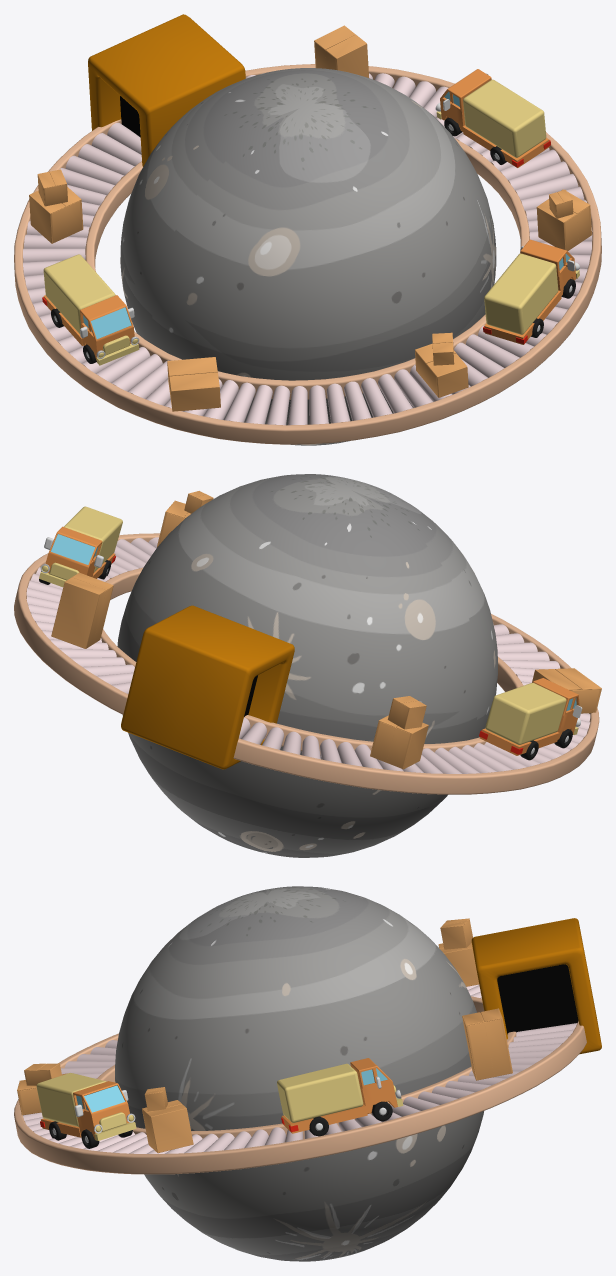
3 renders of one model, top to bottom at view 1: azimuth 30°, elevation 25°; view 2: azimuth 150°, elevation 25°; view 3: azimuth 270°, elevation 25°, orthographic. The views are drawn at different scales.
Visible parts, largest first — view 1: Sphere, Cylinder.001, Cylinder, Cube, Cube.003, Cube.006, Cube.002, Cube.004, Cube.005, Cube.009, Cube.001, Cube.007 (+3 smaller); view 2: Sphere, Cube, Cylinder, Cylinder.001, Cube.006, Cube.003, Cube.005, Cube.001, Cube.004, Cube.014, Cube.009; view 3: Sphere, Cylinder, Cube, Cylinder.001, Cube.003, Cube.002, Cube.005, Cube.009, Cube.001, Cube.014, Cube.012, Cube.007.
Part boxes in pixels (<box>): Sphere: <box>120,68,496,445</box>; Cylinder.001: <box>23,73,592,425</box>; Cylinder: <box>14,64,601,444</box>; Cube: <box>88,14,245,166</box>; Cube.003: <box>435,69,550,167</box>; Cube.006: <box>42,254,139,365</box>; Cube.002: <box>483,239,579,344</box>; Cube.004: <box>167,357,220,411</box>; Cube.005: <box>314,25,368,77</box>; Cube.009: <box>536,189,591,250</box>; Cube.001: <box>29,187,83,243</box>; Cube.007: <box>415,343,468,397</box>; Sphere: <box>117,474,497,857</box>; Cube: <box>121,605,294,769</box>; Cylinder: <box>14,533,599,794</box>; Cylinder.001: <box>26,537,590,773</box>; Cube.006: <box>479,678,582,760</box>; Cube.003: <box>39,506,122,587</box>; Cube.005: <box>51,572,113,648</box>; Cube.001: <box>370,715,428,769</box>; Cube.004: <box>532,668,601,713</box>; Cube.014: <box>387,696,426,729</box>; Cube.009: <box>157,500,190,547</box>; Sphere: <box>115,886,483,1261</box>; Cylinder: <box>14,996,586,1174</box>; Cube: <box>471,918,601,1054</box>; Cylinder.001: <box>22,984,577,1153</box>; Cube.003: <box>277,1058,403,1136</box>; Cube.002: <box>36,1073,136,1148</box>; Cube.005: <box>462,1008,512,1080</box>; Cube.009: <box>142,1100,193,1153</box>; Cube.001: <box>438,943,478,986</box>; Cube.014: <box>440,918,472,949</box>; Cube.012: <box>24,1063,61,1085</box>; Cube.007: <box>17,1073,67,1115</box>.
Size of the model in its own units: 3.06 by 1.99 by 3.11.
12 materials, 1 textured.
